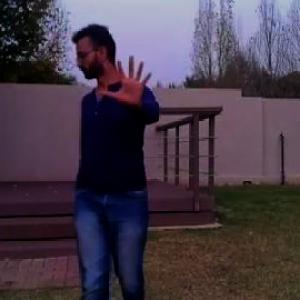follow_hand: (97, 49, 159, 111)
